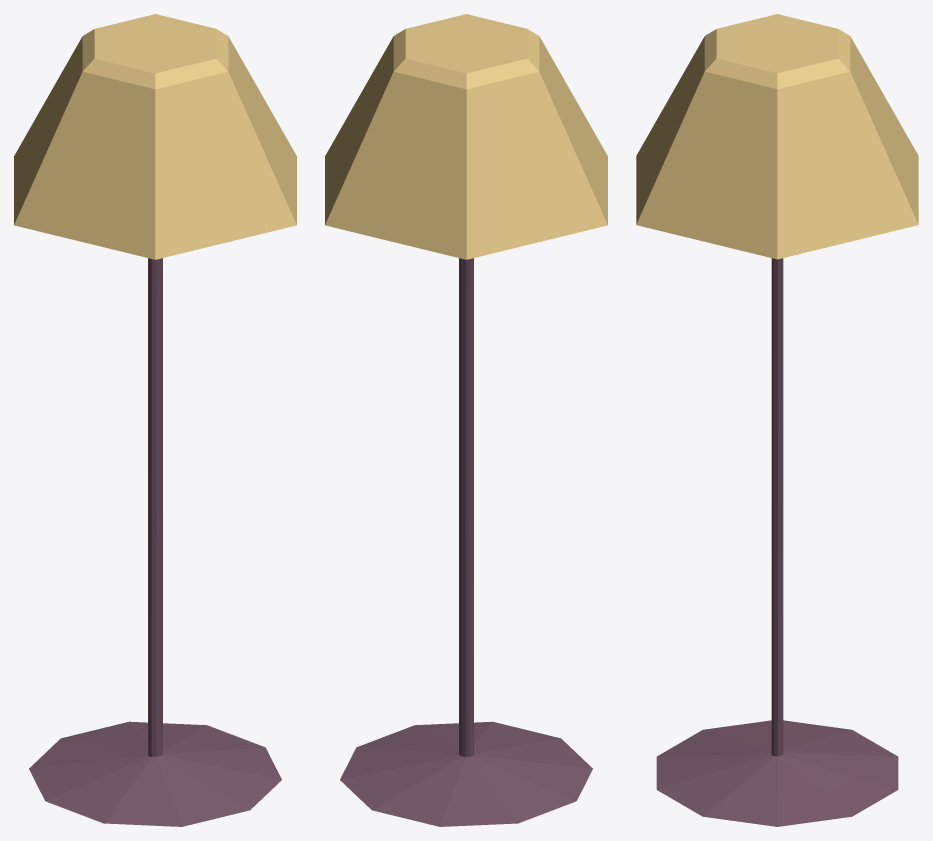
The model's file is lamp.fbx.
The picture shows the model from 3 angles, left to right: view 1: azimuth 30°, elevation 25°; view 2: azimuth 150°, elevation 25°; view 3: azimuth 270°, elevation 25°; orthographic projection.
Parts seen in each view (by area): view 1: pCylinder1, pCylinder2; view 2: pCylinder1, pCylinder2; view 3: pCylinder1, pCylinder2.
Boxes of the visible parts, left/top/right/bottom form: pCylinder1: left=14, top=14, right=296, bottom=259; pCylinder2: left=29, top=258, right=281, bottom=826; pCylinder1: left=325, top=14, right=607, bottom=259; pCylinder2: left=340, top=258, right=592, bottom=826; pCylinder1: left=636, top=14, right=918, bottom=259; pCylinder2: left=656, top=258, right=898, bottom=826.
Size of the model in its own units: 8.26 by 20.37 by 7.15.
